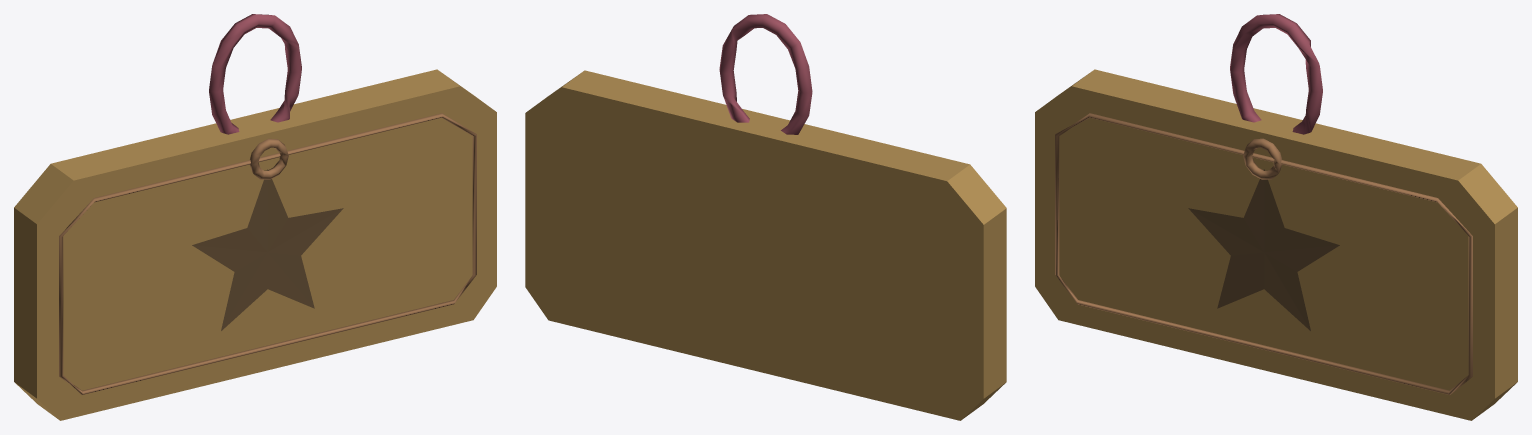
File: special_tag.glb
3 renders of one model, left to right at view 1: azimuth 30°, elevation 25°; view 2: azimuth 150°, elevation 25°; view 3: azimuth 330°, elevation 25°, orthographic.
Parts seen in each view (by area): view 1: special_tag; view 2: special_tag; view 3: special_tag.
Boxes of the visible parts, x1=… form: special_tag: x1=14, y1=14, x2=496, y2=420; special_tag: x1=525, y1=14, x2=1006, y2=420; special_tag: x1=1035, y1=14, x2=1517, y2=420.
Bounding box in the file's own units: 0.138 × 0.0999 × 0.0143.
